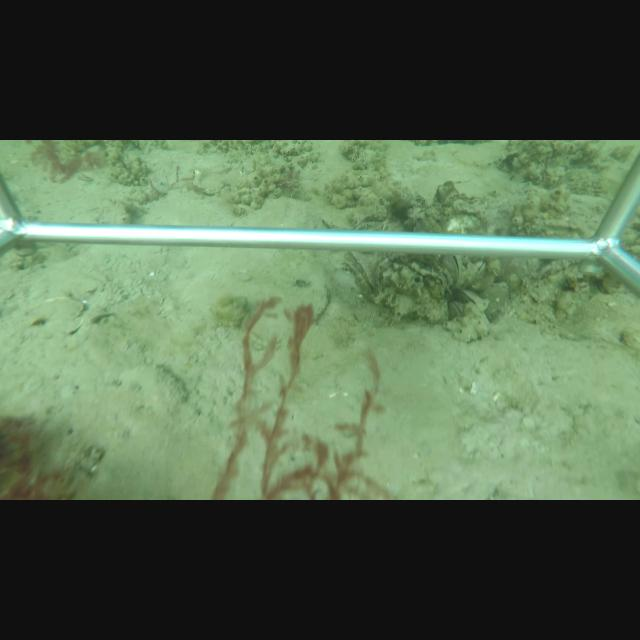Oyster-Closed: (343, 254, 379, 295), (446, 256, 462, 288), (449, 300, 464, 315)
Oyster-Open: (458, 290, 487, 309)
